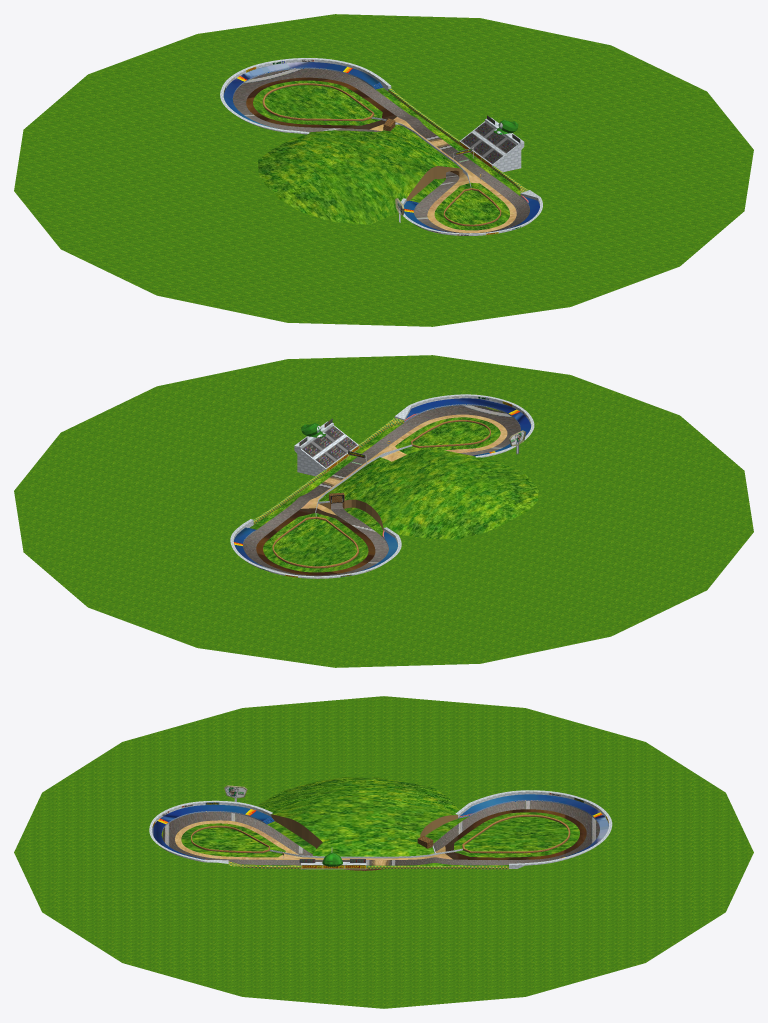
3 views of the same model, one above another, from view 1: azimuth 30°, elevation 25°; view 2: azimuth 150°, elevation 25°; view 3: azimuth 270°, elevation 25° (orthographic).
Parts seen in each view (by area): view 1: Polygon0.001, Polygon5, Polygon3, Polygon1, Polygon4, Polygon0, Polygon2, Polygon7; view 2: Polygon0.001, Polygon5, Polygon3, Polygon1, Polygon4, Polygon0, Polygon2, Polygon7; view 3: Polygon0.001, Polygon5, Polygon3, Polygon1, Polygon4, Polygon0, Polygon2.
Part boxes in pixels (x1,y1,x2,y2): Polygon0.001: [14, 14, 753, 326]; Polygon5: [253, 80, 520, 230]; Polygon3: [232, 68, 529, 233]; Polygon1: [220, 58, 542, 235]; Polygon4: [246, 77, 516, 233]; Polygon0: [223, 62, 539, 232]; Polygon2: [224, 59, 540, 235]; Polygon7: [372, 82, 516, 203]; Polygon0.001: [14, 355, 753, 667]; Polygon5: [249, 417, 538, 572]; Polygon3: [243, 405, 520, 576]; Polygon1: [230, 394, 534, 578]; Polygon4: [256, 414, 507, 575]; Polygon0: [234, 398, 530, 572]; Polygon2: [245, 395, 531, 578]; Polygon7: [246, 426, 361, 530]; Polygon0.001: [14, 696, 753, 1008]; Polygon5: [181, 777, 579, 866]; Polygon3: [161, 801, 599, 865]; Polygon1: [149, 790, 612, 869]; Polygon4: [175, 809, 586, 860]; Polygon0: [152, 794, 608, 859]; Polygon2: [152, 785, 608, 869].
Bounding box in the file's own units: 147200 × 9831 × 147200.
16 materials, 16 textured.
